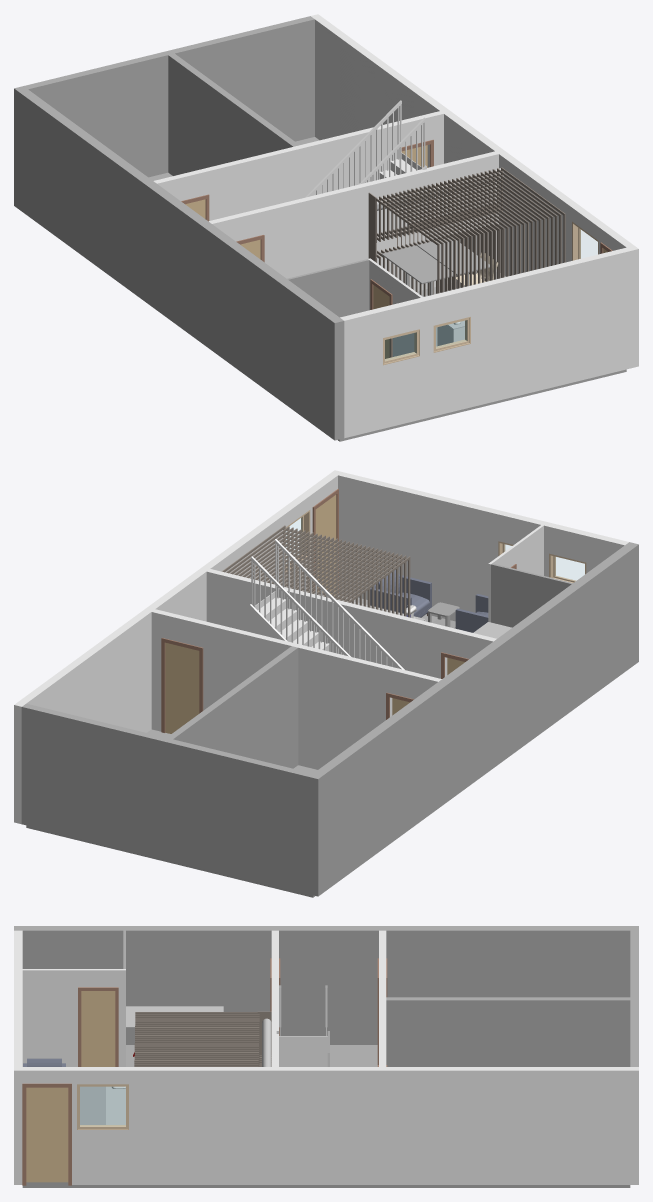
Rendered from demo-ar.glb.
The picture shows the model from 3 angles, top to bottom: view 1: azimuth 30°, elevation 25°; view 2: azimuth 150°, elevation 25°; view 3: azimuth 270°, elevation 25°; orthographic projection. The views are drawn at different scales.
Parts seen in each view (by area): view 1: product-6a91f76c-8dbd-4356-a5c4-9ccd23d7bb1e-body, product-6a91f76c-8dbd-4356-a5c4-9ccd23d7bb57-body, product-6a91f76c-8dbd-4356-a5c4-9ccd23d7bbad-body, product-6a91f76c-8dbd-4356-a5c4-9ccd23d7bb98-body, product-74a927ee-bd42-476b-b061-d086554fa7f9-body, product-9a8a775a-d5b2-49fe-875a-08faece5a00d-body, product-9a8a775a-d5b2-49fe-875a-08faece5a396-body, product-43aecc95-272b-45ff-a789-1eae4b611127-body, product-0846f86d-c8ea-4791-be07-f008baedd721-body, product-14bb2c0c-8d25-4f11-82f0-a17210b4ccb6-body, product-43aecc95-272b-45ff-a789-1eae4b611103-body, product-f2fd4b76-41bf-46c6-94f4-195eeda8017a-body (+3 smaller); view 2: product-6a91f76c-8dbd-4356-a5c4-9ccd23d7bb1e-body, product-6a91f76c-8dbd-4356-a5c4-9ccd23d7bbad-body, product-6a91f76c-8dbd-4356-a5c4-9ccd23d7bb57-body, product-9a8a775a-d5b2-49fe-875a-08faece5a00d-body, product-6a91f76c-8dbd-4356-a5c4-9ccd23d7bb98-body, product-74a927ee-bd42-476b-b061-d086554fa7f9-body, product-9a8a775a-d5b2-49fe-875a-08faece5a396-body, product-9a8a775a-d5b2-49fe-875a-08faece5a0bf-body, product-43aecc95-272b-45ff-a789-1eae4b611127-body, product-0846f86d-c8ea-4791-be07-f008baedd72d-body, product-0846f86d-c8ea-4791-be07-f008baedd721-body, product-43aecc95-272b-45ff-a789-1eae4b611103-body (+5 smaller); view 3: product-6a91f76c-8dbd-4356-a5c4-9ccd23d7bb98-body, product-6a91f76c-8dbd-4356-a5c4-9ccd23d7bb1e-body, product-9a8a775a-d5b2-49fe-875a-08faece5a396-body, product-43aecc95-272b-45ff-a789-1eae4b611103-body, product-f2fd4b76-41bf-46c6-94f4-195eeda805f3-body, product-f2fd4b76-41bf-46c6-94f4-195eeda8017a-body, product-362e10e4-95d0-432c-8032-b8e1ce31d0cb-body, product-6a91f76c-8dbd-4356-a5c4-9ccd23d7bb57-body, product-0846f86d-c8ea-4791-be07-f008baedd653-body, product-6a91f76c-8dbd-4356-a5c4-9ccd23d7bbad-body, product-9a8a775a-d5b2-49fe-875a-08faece5a00d-body, product-74a927ee-bd42-476b-b061-d086554fa7f9-body (+7 smaller).
Part boxes in pixels (<box>): product-6a91f76c-8dbd-4356-a5c4-9ccd23d7bb1e-body: <box>14,86,344,440</box>; product-6a91f76c-8dbd-4356-a5c4-9ccd23d7bb57-body: <box>340,245,638,438</box>; product-6a91f76c-8dbd-4356-a5c4-9ccd23d7bbad-body: <box>24,16,314,177</box>; product-6a91f76c-8dbd-4356-a5c4-9ccd23d7bb98-body: <box>311,14,633,276</box>; product-74a927ee-bd42-476b-b061-d086554fa7f9-body: <box>209,151,498,291</box>; product-9a8a775a-d5b2-49fe-875a-08faece5a00d-body: <box>153,111,443,220</box>; product-9a8a775a-d5b2-49fe-875a-08faece5a396-body: <box>168,53,299,175</box>; product-43aecc95-272b-45ff-a789-1eae4b611127-body: <box>287,259,369,317</box>; product-0846f86d-c8ea-4791-be07-f008baedd721-body: <box>305,100,401,197</box>; product-14bb2c0c-8d25-4f11-82f0-a17210b4ccb6-body: <box>381,245,456,295</box>; product-43aecc95-272b-45ff-a789-1eae4b611103-body: <box>368,258,422,356</box>; product-f2fd4b76-41bf-46c6-94f4-195eeda8017a-body: <box>148,137,626,441</box>; product-6a91f76c-8dbd-4356-a5c4-9ccd23d7bb1e-body: <box>308,542,638,896</box>; product-6a91f76c-8dbd-4356-a5c4-9ccd23d7bbad-body: <box>21,703,312,894</box>; product-6a91f76c-8dbd-4356-a5c4-9ccd23d7bb57-body: <box>330,470,628,621</box>; product-9a8a775a-d5b2-49fe-875a-08faece5a00d-body: <box>151,609,441,769</box>; product-6a91f76c-8dbd-4356-a5c4-9ccd23d7bb98-body: <box>14,473,337,824</box>; product-74a927ee-bd42-476b-b061-d086554fa7f9-body: <box>206,569,496,678</box>; product-9a8a775a-d5b2-49fe-875a-08faece5a396-body: <box>167,646,298,768</box>; product-9a8a775a-d5b2-49fe-875a-08faece5a0bf-body: <box>161,638,203,733</box>; product-43aecc95-272b-45ff-a789-1eae4b611127-body: <box>491,563,572,627</box>; product-0846f86d-c8ea-4791-be07-f008baedd72d-body: <box>275,539,404,669</box>; product-0846f86d-c8ea-4791-be07-f008baedd721-body: <box>251,556,350,656</box>; product-43aecc95-272b-45ff-a789-1eae4b611103-body: <box>488,525,543,622</box>; product-6a91f76c-8dbd-4356-a5c4-9ccd23d7bb98-body: <box>22,1067,638,1184</box>; product-6a91f76c-8dbd-4356-a5c4-9ccd23d7bb1e-body: <box>14,926,638,1044</box>; product-9a8a775a-d5b2-49fe-875a-08faece5a396-body: <box>386,997,630,1066</box>; product-43aecc95-272b-45ff-a789-1eae4b611103-body: <box>22,969,125,1066</box>; product-f2fd4b76-41bf-46c6-94f4-195eeda805f3-body: <box>22,1083,71,1185</box>; product-f2fd4b76-41bf-46c6-94f4-195eeda8017a-body: <box>22,1045,630,1187</box>; product-362e10e4-95d0-432c-8032-b8e1ce31d0cb-body: <box>78,987,118,1066</box>; product-6a91f76c-8dbd-4356-a5c4-9ccd23d7bb57-body: <box>14,930,22,1184</box>; product-0846f86d-c8ea-4791-be07-f008baedd653-body: <box>279,1036,327,1066</box>; product-6a91f76c-8dbd-4356-a5c4-9ccd23d7bbad-body: <box>630,930,638,1066</box>; product-9a8a775a-d5b2-49fe-875a-08faece5a00d-body: <box>379,930,386,1066</box>; product-74a927ee-bd42-476b-b061-d086554fa7f9-body: <box>271,930,278,1066</box>.
Size of the model in its own units: 7.04 by 3.84 by 12.82.
